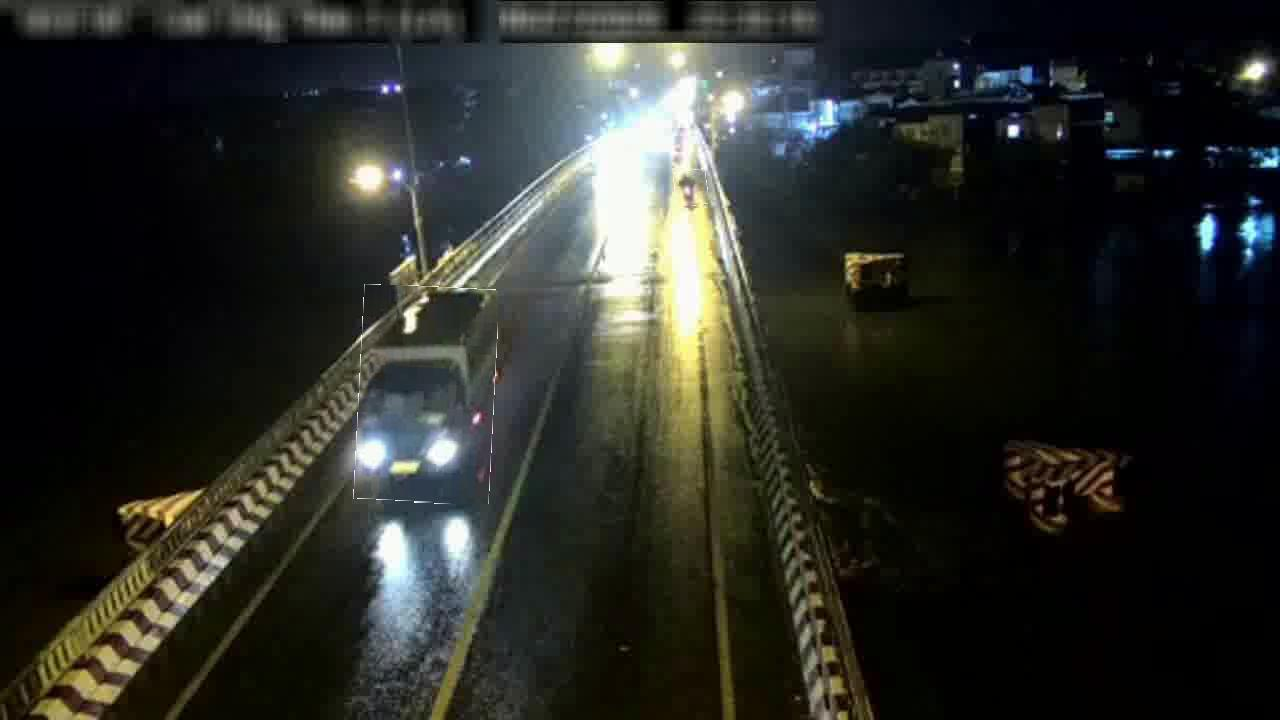8: (356, 286, 497, 504)
motorbike: (674, 169, 708, 206)
